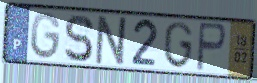2: (131, 16, 160, 70)
G: (29, 10, 63, 62), (163, 20, 194, 71)
N: (93, 14, 131, 69)
P: (194, 20, 228, 74)
S: (62, 13, 95, 64)
